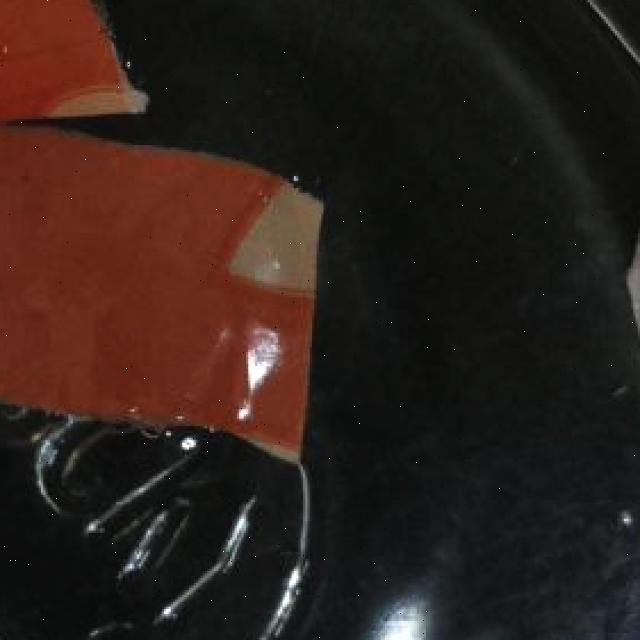Microplastic: (0, 121, 321, 481)
